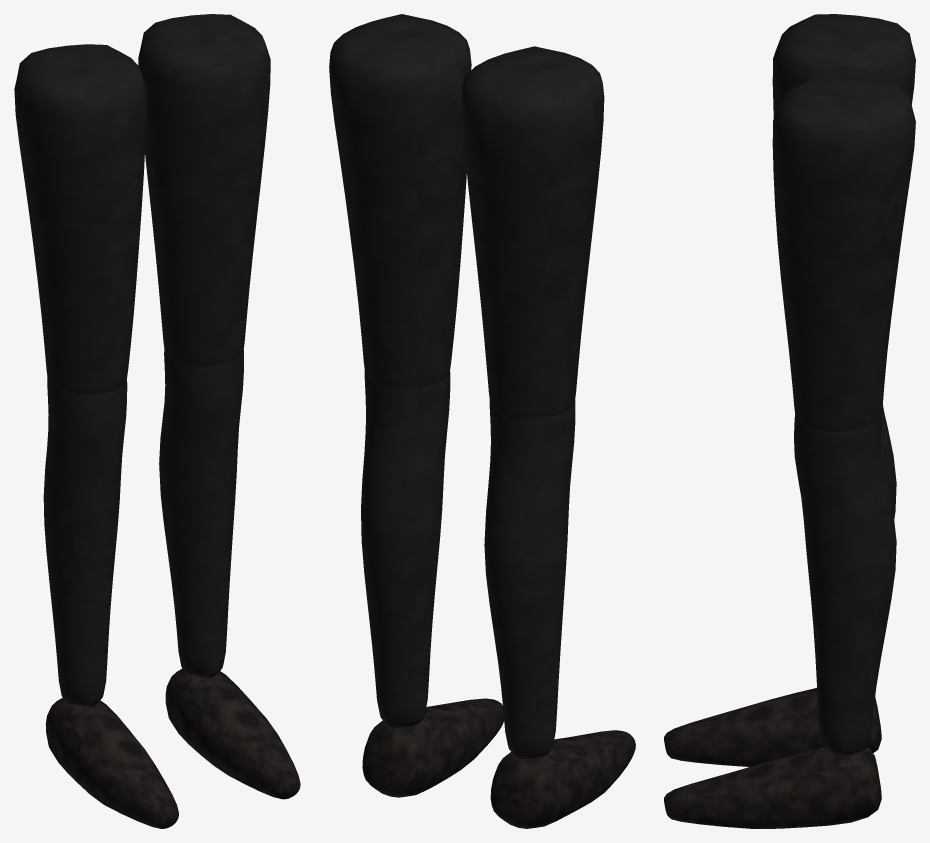
File: cuerpo.obj
3 views of the same model, side by side, from view 1: azimuth 30°, elevation 25°; view 2: azimuth 150°, elevation 25°; view 3: azimuth 270°, elevation 25° (orthographic). The views are drawn at different scales.
Visible parts, largest first — view 1: tarola_MusloDer, tarola_MusloIzq, tarola_PiernaIzq, tarola_PiernaDer; view 2: tarola_MusloDer, tarola_MusloIzq, tarola_PiernaDer, tarola_PiernaIzq; view 3: tarola_MusloIzq, tarola_PiernaIzq, tarola_PiernaDer, tarola_MusloDer.
Part boxes in pixels (left/top/right/bottom): tarola_MusloDer: left=14, top=44, right=146, bottom=394; tarola_MusloIzq: left=138, top=14, right=270, bottom=366; tarola_PiernaIzq: left=159, top=349, right=300, bottom=799; tarola_PiernaDer: left=43, top=377, right=178, bottom=828; tarola_MusloDer: left=461, top=46, right=604, bottom=418; tarola_MusloIzq: left=329, top=14, right=471, bottom=387; tarola_PiernaDer: left=484, top=400, right=635, bottom=828; tarola_PiernaIzq: left=361, top=370, right=504, bottom=797; tarola_MusloIzq: left=772, top=76, right=915, bottom=432; tarola_PiernaIzq: left=664, top=414, right=896, bottom=828; tarola_PiernaDer: left=664, top=405, right=896, bottom=766; tarola_MusloDer: left=772, top=14, right=915, bottom=117.
Size of the model in its own units: 0.3362 by 0.9604 by 0.3015.
Materials: 2 (2 with a texture image).
